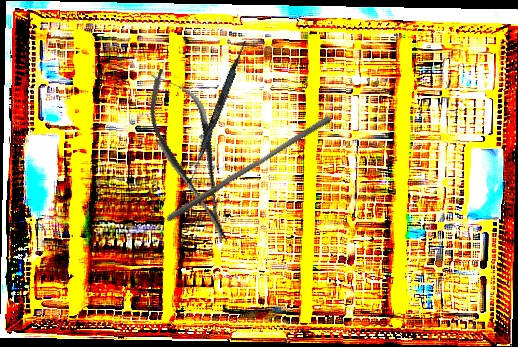Micro Scissor: (134, 59, 248, 253)
Pusher: (164, 108, 334, 230)
Spatula Surgical: (186, 38, 248, 187)
